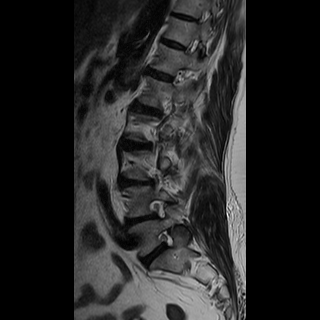LFS0: (149, 224, 180, 257), (140, 193, 171, 224)
